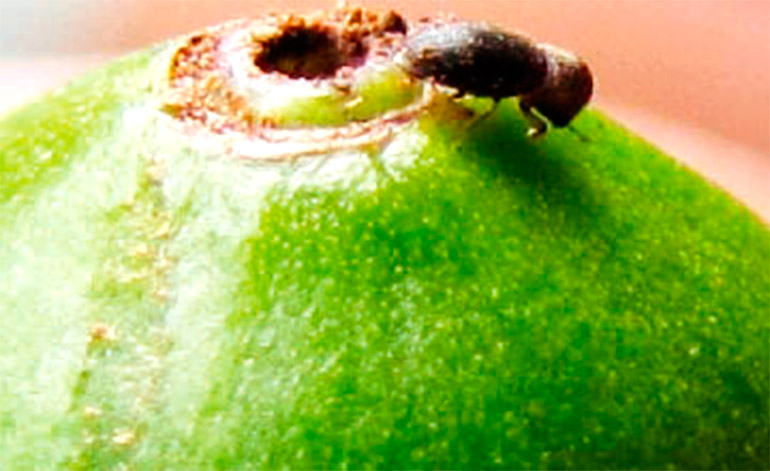broca de cafe: (99, 2, 727, 410)
